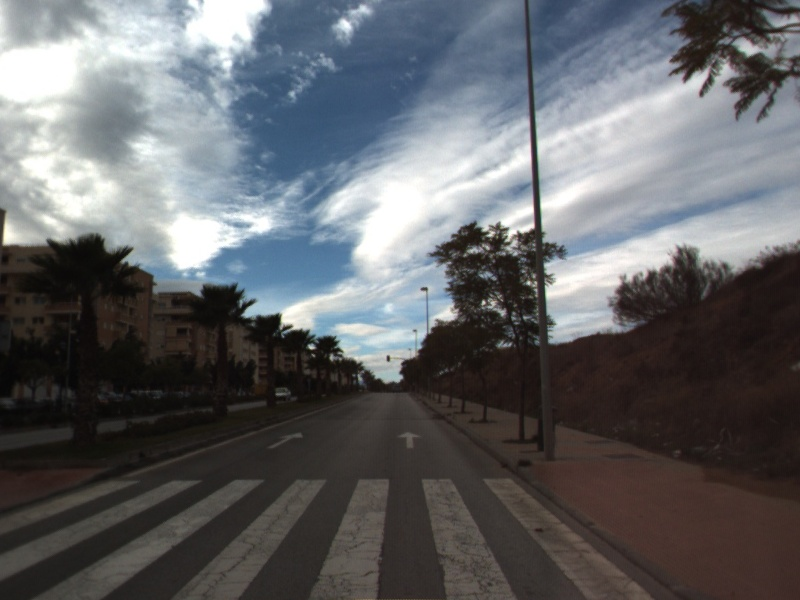STRAIGHT: (265, 430, 306, 450), (396, 429, 424, 450)
